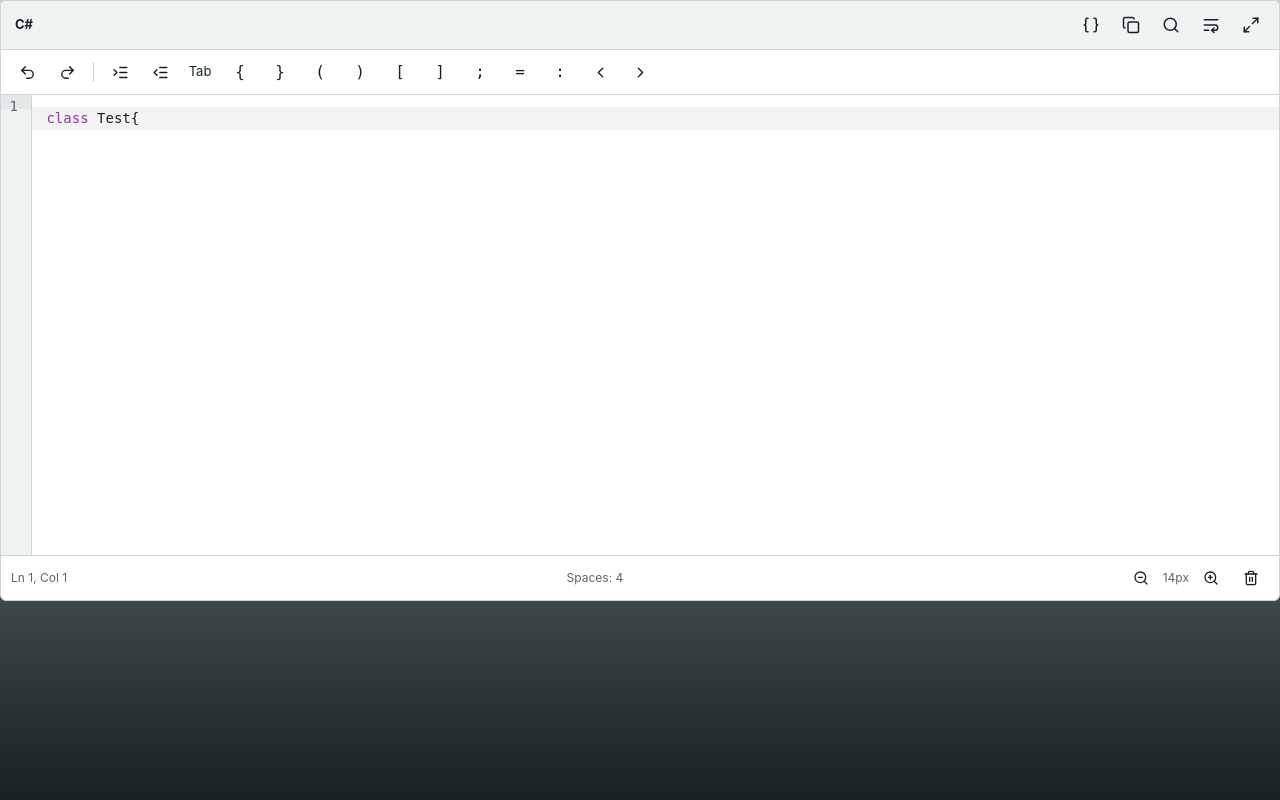
Test: retains invalid code when formatting fails and never saves automatically
Click the button named "Format code" at [1091, 25], box [1073,7,1109,43]
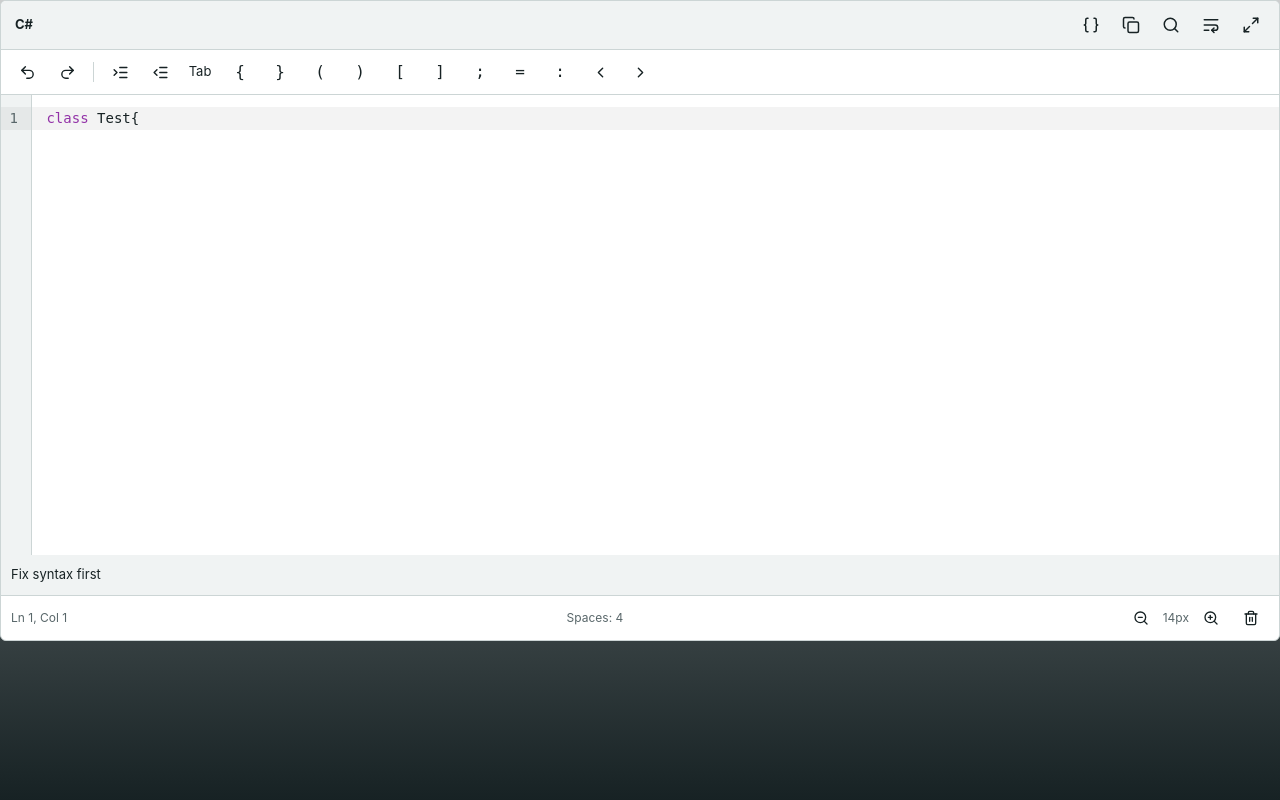
Check: the message reads "Fix syntax first", box [11,566,101,582]
